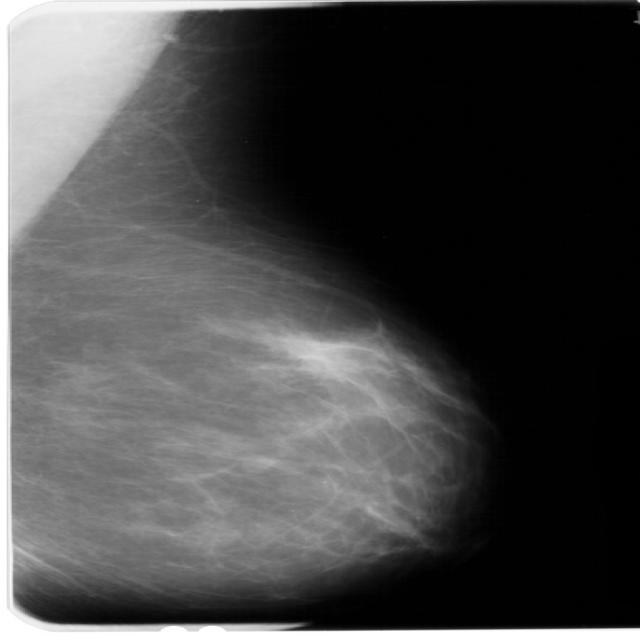tumour: (245, 454, 272, 466)
